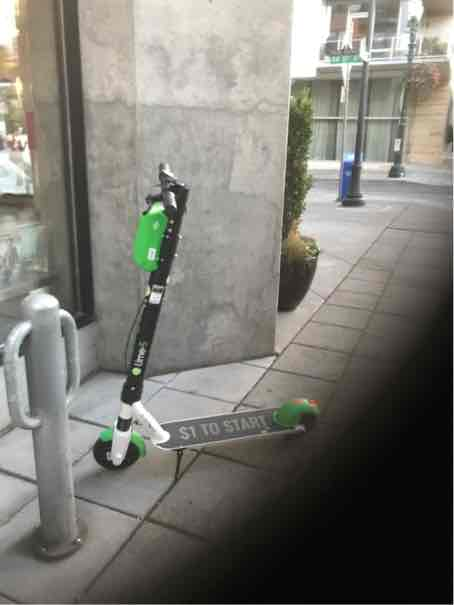scooter: (93, 160, 329, 486)
